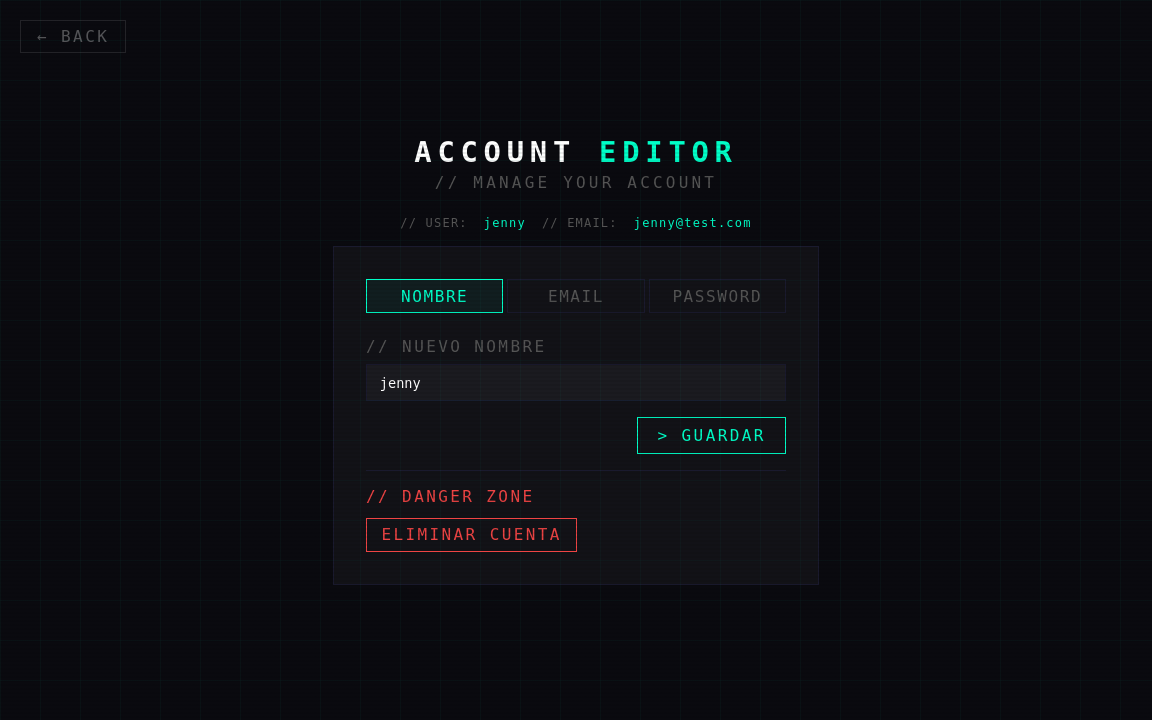
Test: AccountEditor › muestra confirmación al pulsar ELIMINAR CUENTA
Click the button "ELIMINAR CUENTA" at x=472, y=535, box [366, 518, 577, 552]
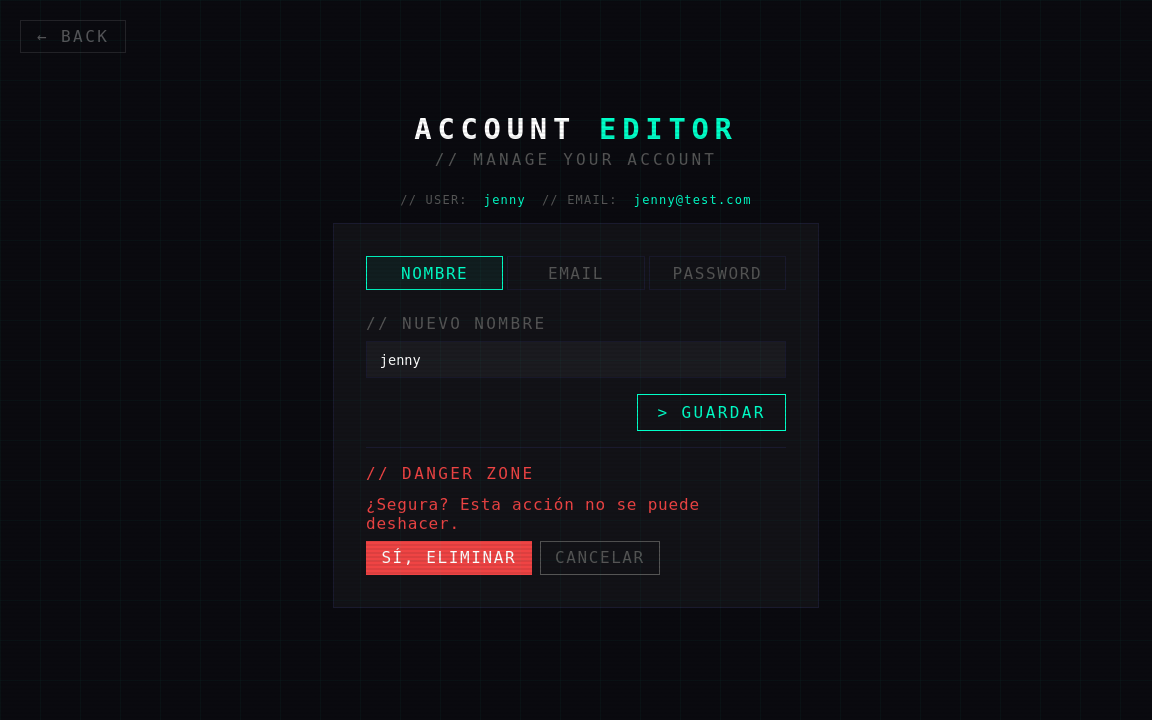
Check: the text "¿Segura? Esta acción no se puede deshacer." is shown, box [366, 495, 700, 533]
